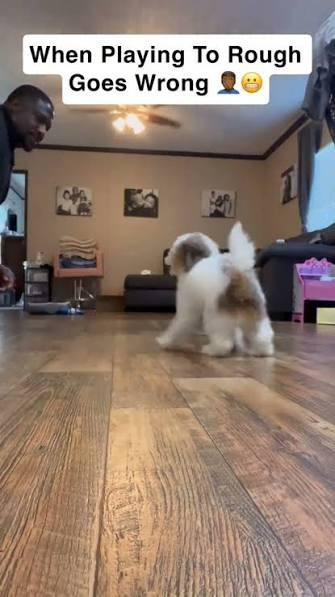adult_dog: (158, 221, 276, 358)
non-dog: (0, 85, 55, 308)
